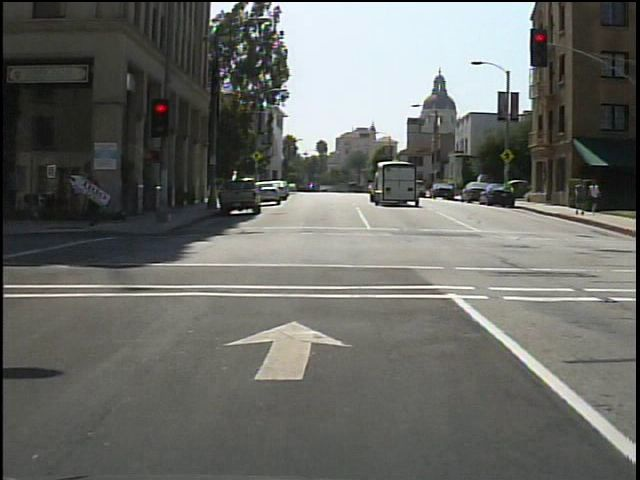person: (81, 170, 115, 234), (573, 180, 589, 220), (587, 179, 602, 218)
